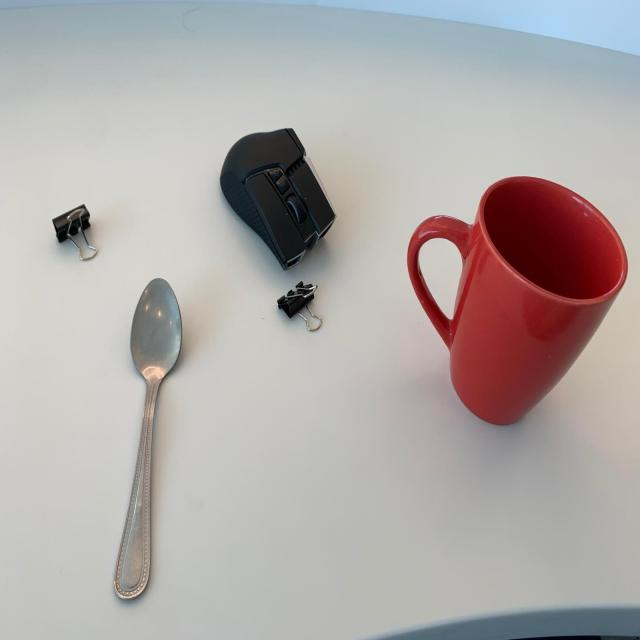Cup: (397, 172, 634, 436)
Mouse: (214, 119, 342, 281)
Spoon: (84, 274, 194, 606)
